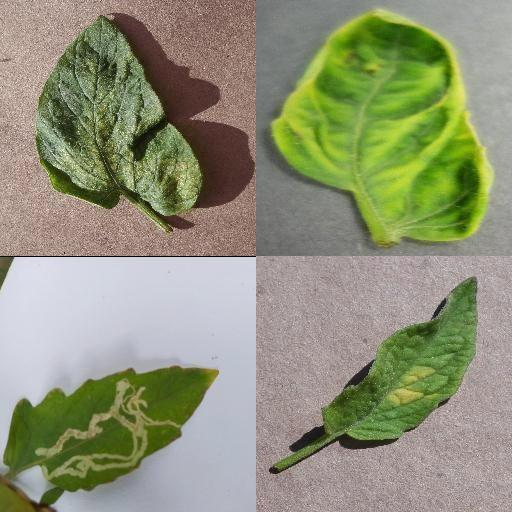Leaf Miner: (2, 364, 221, 492)
Leaf Mold: (321, 276, 478, 442)
Spider Mites: (38, 14, 204, 216)
Yellow Leaf Curl Virus: (271, 7, 495, 243)
